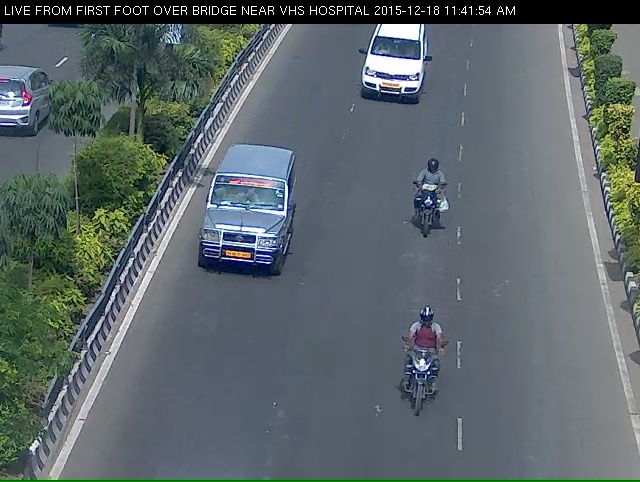Car: (173, 160, 300, 303), (355, 23, 435, 123)
Person: (394, 333, 447, 450), (407, 172, 449, 261)
